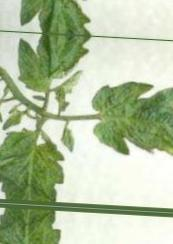Tomato leaf mosaic virus: (85, 75, 173, 171), (11, 34, 97, 97), (0, 128, 68, 203)
